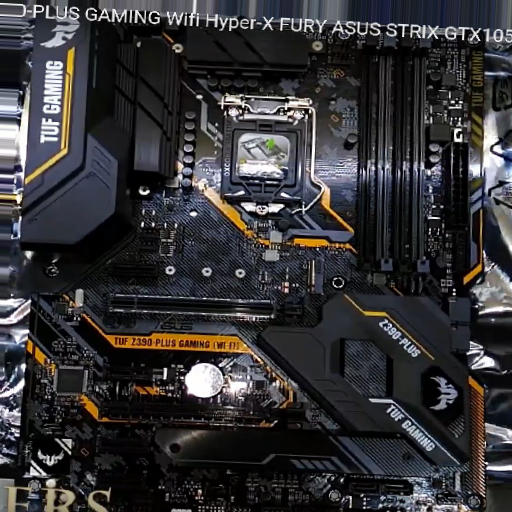CPU: (220, 94, 311, 214)
GPU: (96, 399, 312, 428), (104, 294, 305, 321)
MOTHERBOARD: (17, 31, 482, 512)
RAM: (356, 31, 429, 276)
SSD: (308, 257, 326, 300)
